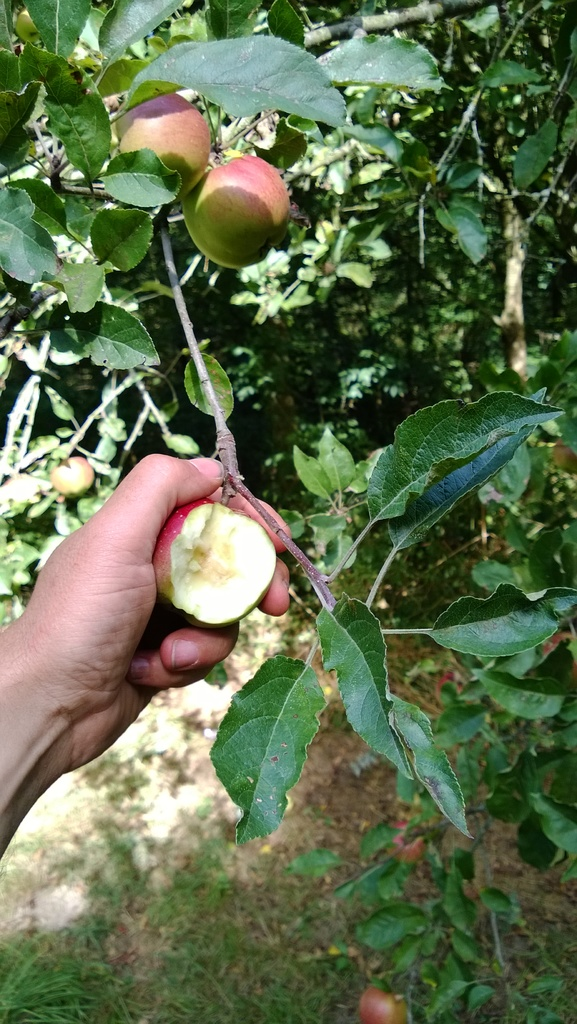Apple: (155, 496, 278, 631), (177, 149, 294, 257), (113, 97, 216, 197), (355, 987, 402, 1023), (387, 819, 428, 860), (50, 459, 92, 497), (542, 629, 576, 667), (437, 671, 466, 709), (552, 438, 576, 473)
